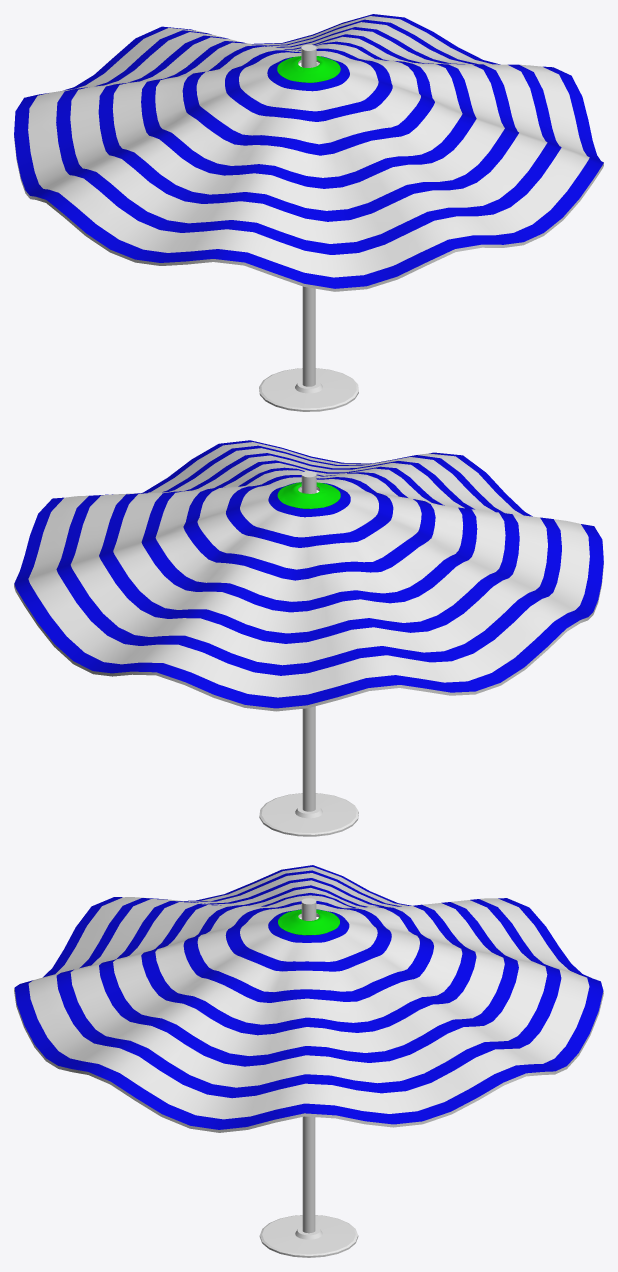
File: Umbrella.fbx
The picture shows the model from 3 angles, top to bottom: view 1: azimuth 30°, elevation 25°; view 2: azimuth 150°, elevation 25°; view 3: azimuth 270°, elevation 25°; orthographic projection. The views are drawn at different scales.
Parts seen in each view (by area): view 1: polySurface8; view 2: polySurface8; view 3: polySurface8.
Boxes of the visible parts, left/top/right/bottom form: polySurface8: left=14, top=14, right=603, bottom=411; polySurface8: left=14, top=440, right=603, bottom=836; polySurface8: left=14, top=865, right=603, bottom=1257.
Size of the model in its own units: 91.67 by 57.59 by 91.7.
